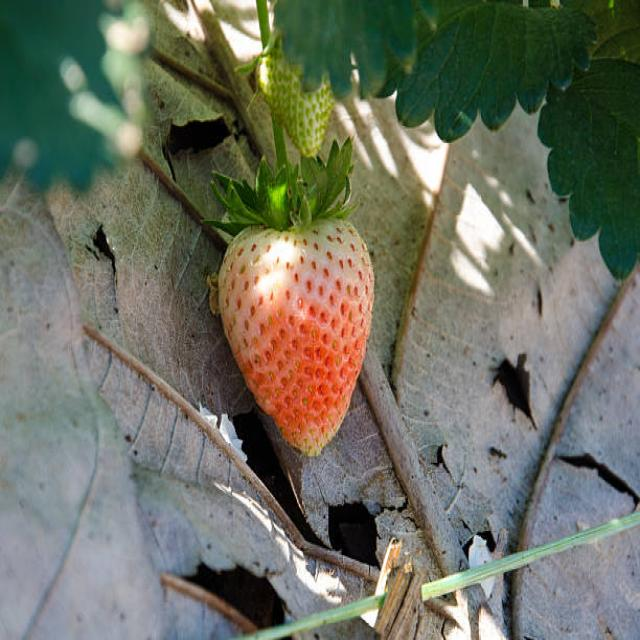Healthy Fruit: (218, 224, 375, 456)
